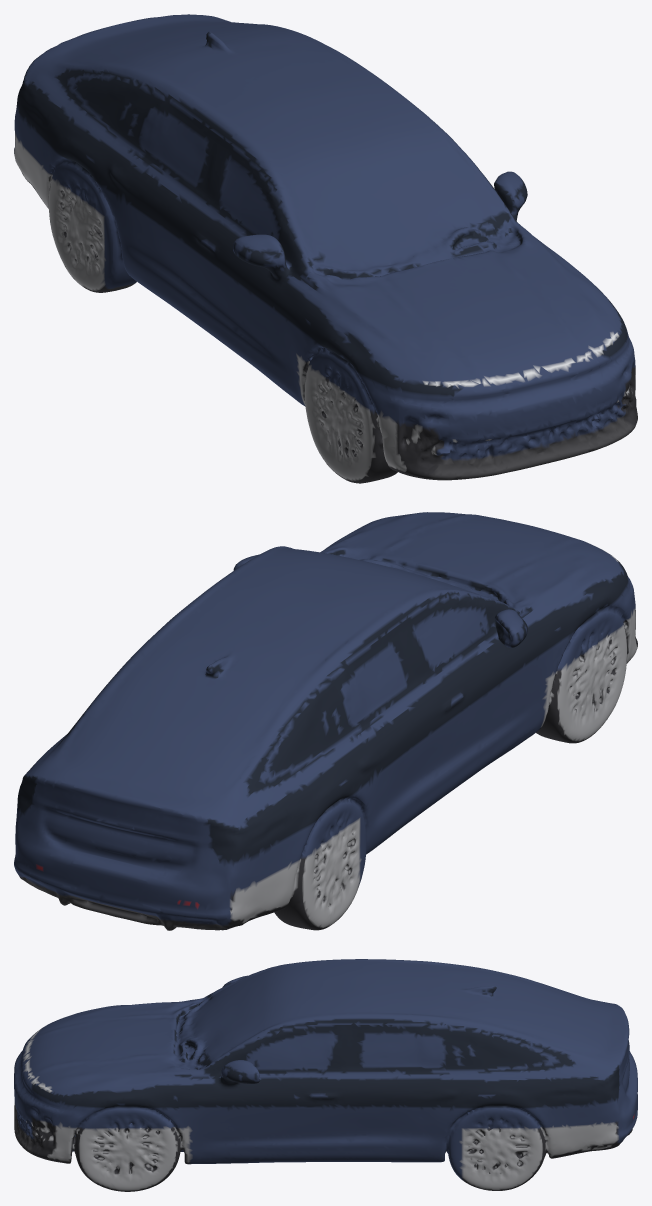
Rendered from sedan.glb.
The picture shows the model from 3 angles, top to bottom: view 1: azimuth 30°, elevation 25°; view 2: azimuth 150°, elevation 25°; view 3: azimuth 270°, elevation 25°; orthographic projection. The views are drawn at different scales.
Visible parts, largest first — view 1: geometry_0; view 2: geometry_0; view 3: geometry_0.
Boxes of the visible parts, x1,y1,x2,y2 form: geometry_0: (14,14,637,483); geometry_0: (14,512,637,930); geometry_0: (14,959,637,1191).
Size of the model in its own units: 1.88 by 1.46 by 4.99.
